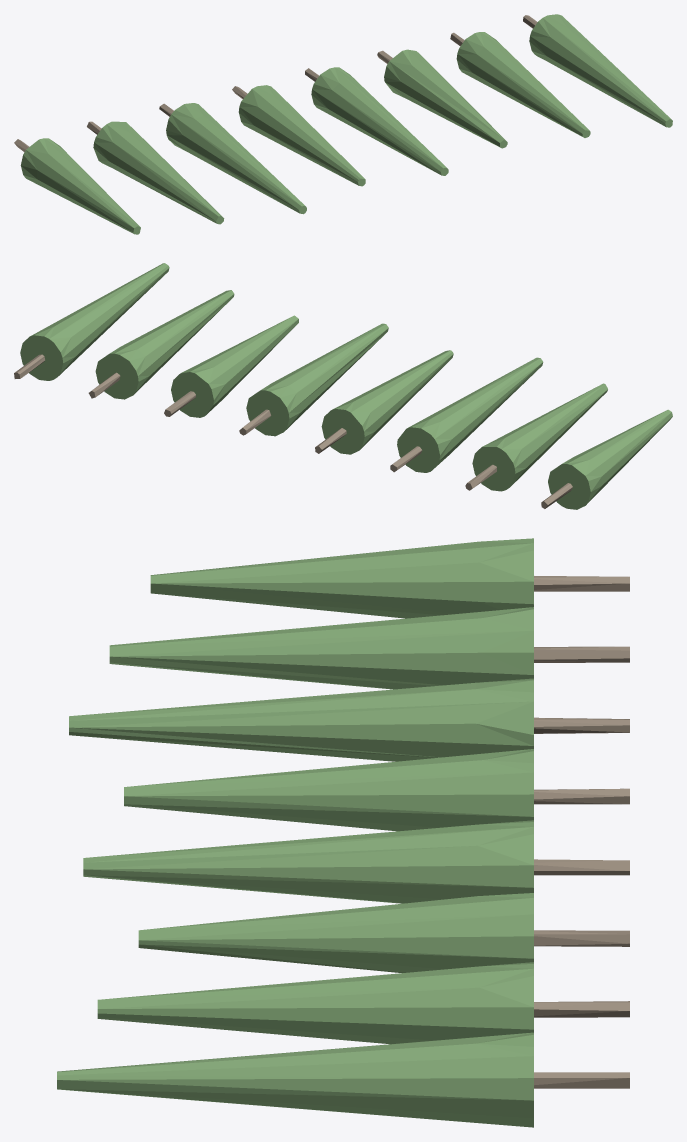
File: r-147-twente-poplar-row.lod1.glb
3 renders of one model, top to bottom at view 1: azimuth 30°, elevation 25°; view 2: azimuth 150°, elevation 25°; view 3: azimuth 270°, elevation 25°, orthographic. The views are drawn at different scales.
Parts seen in each view (by area): view 1: foliage, trunks; view 2: foliage, trunks; view 3: foliage, trunks.
Part boxes in pixels (x1,y1,x2,y2): foliage: (20,14,672,234); trunks: (14,15,537,152); foliage: (20,263,672,509); trunks: (14,354,572,508); foliage: (57,538,533,1127); trunks: (534,576,629,1088).
Size of the model in its own units: 53000 by 3973 by 23898.
